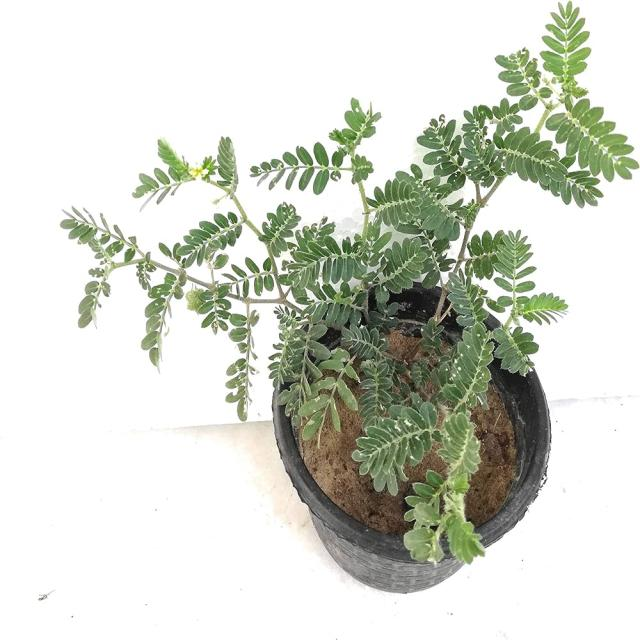Gokharu: (58, 65, 529, 571), (207, 150, 584, 588), (338, 0, 640, 421)
